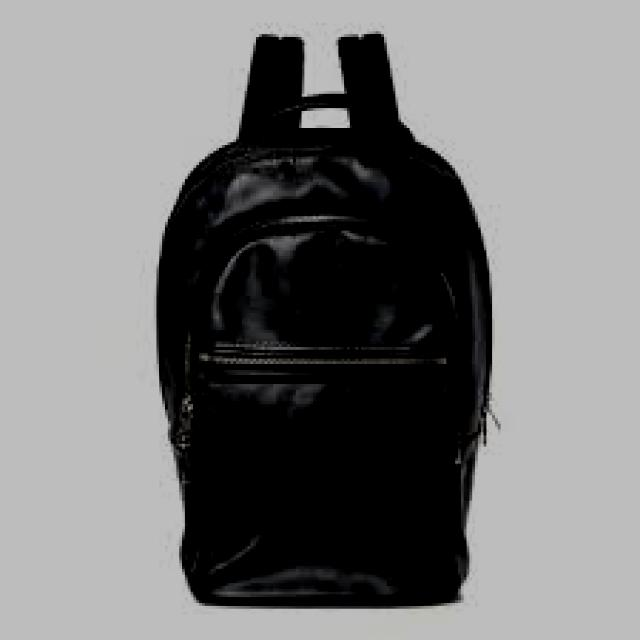backpack: (155, 29, 497, 607)
